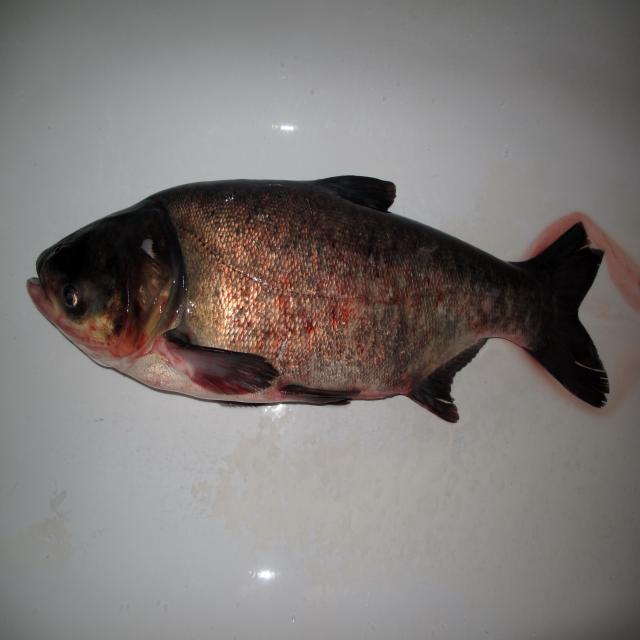Big-Head-Carp: (1, 56, 622, 526)
